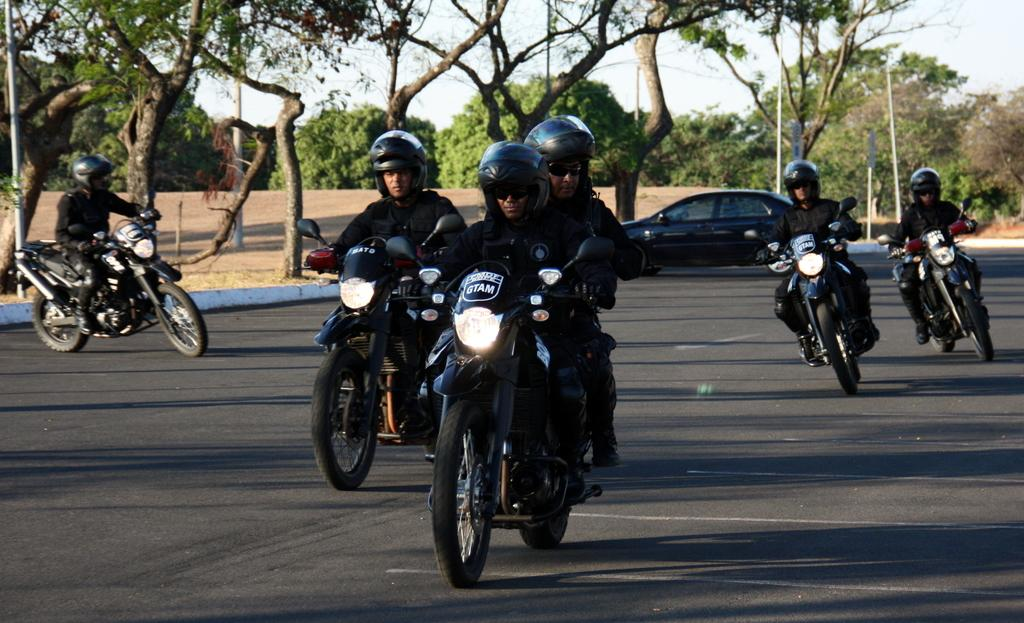helmet: (523, 114, 596, 200), (477, 141, 550, 221), (370, 130, 428, 198), (70, 154, 114, 194), (783, 159, 821, 203), (909, 167, 941, 210)
